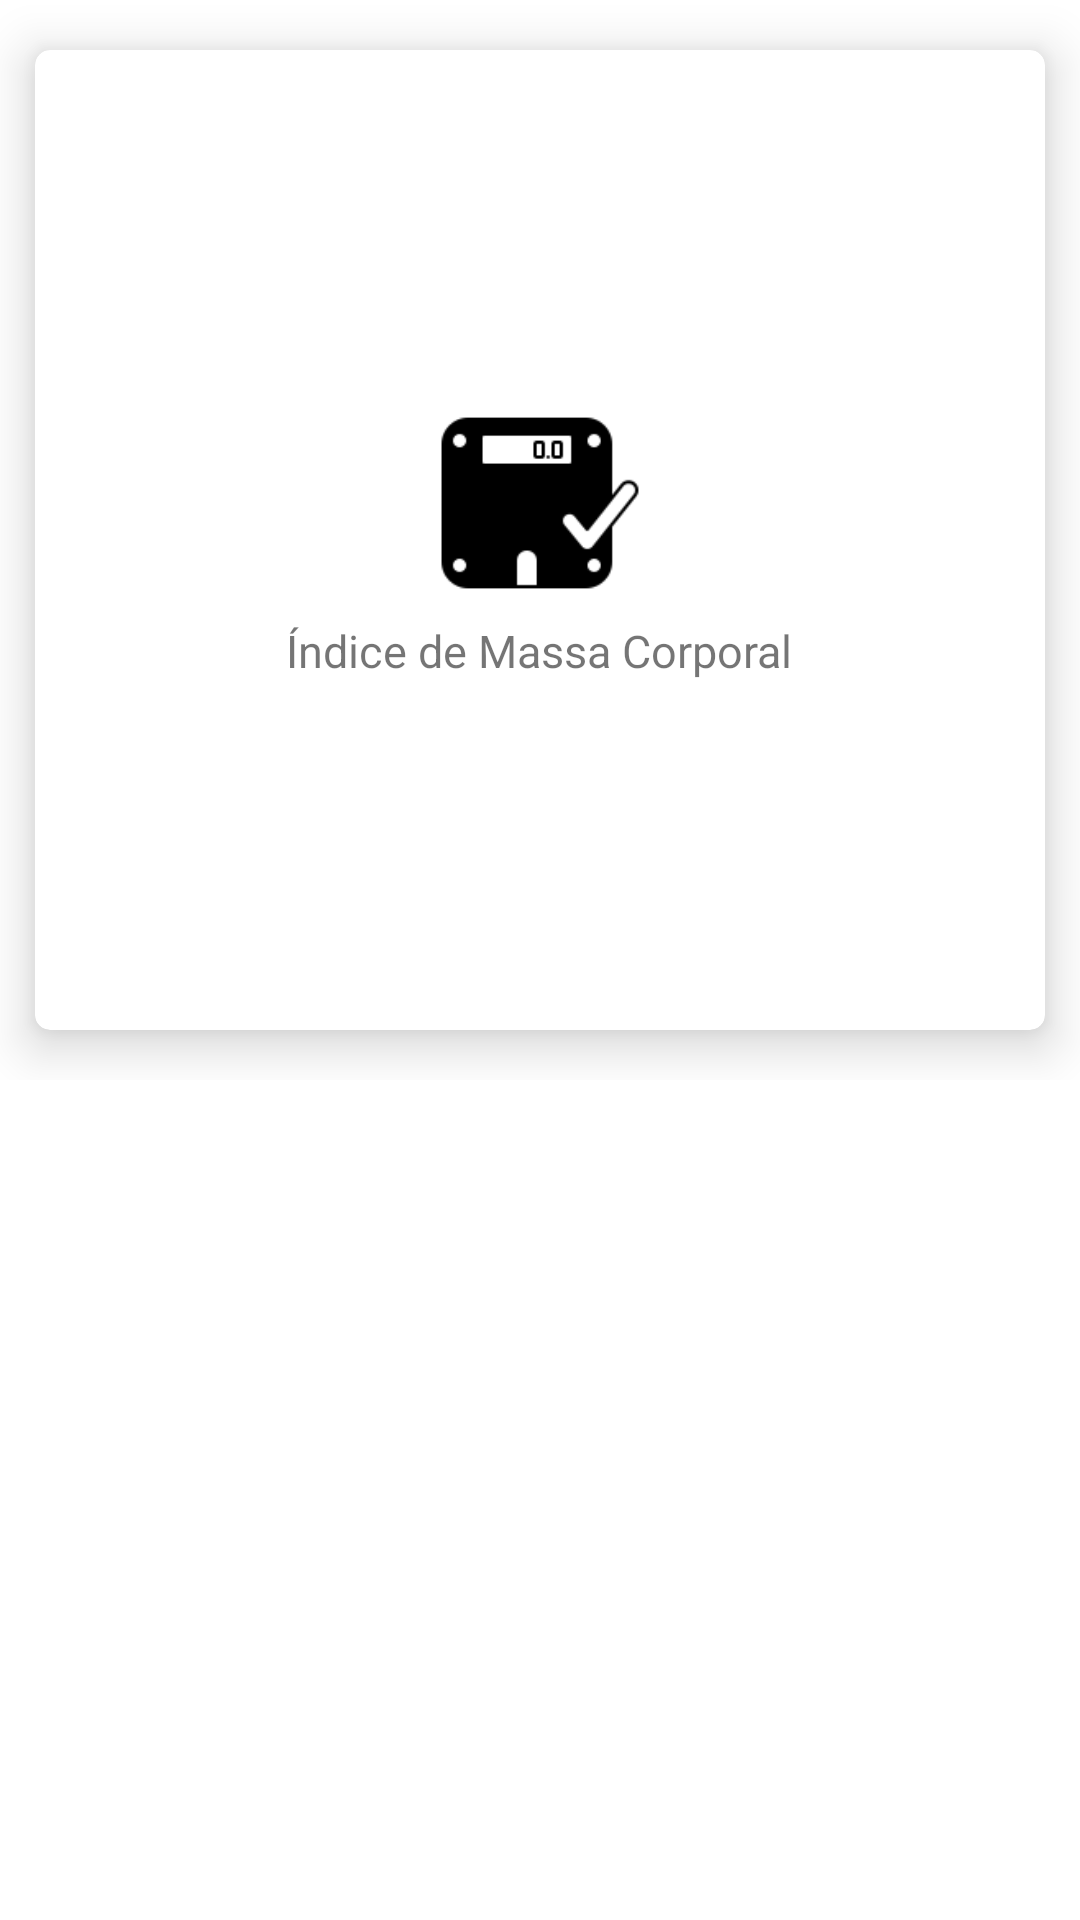

Screen size 1080x1920. Icon name, then its center in pixels as [x,y]:
balance: [540,503]
